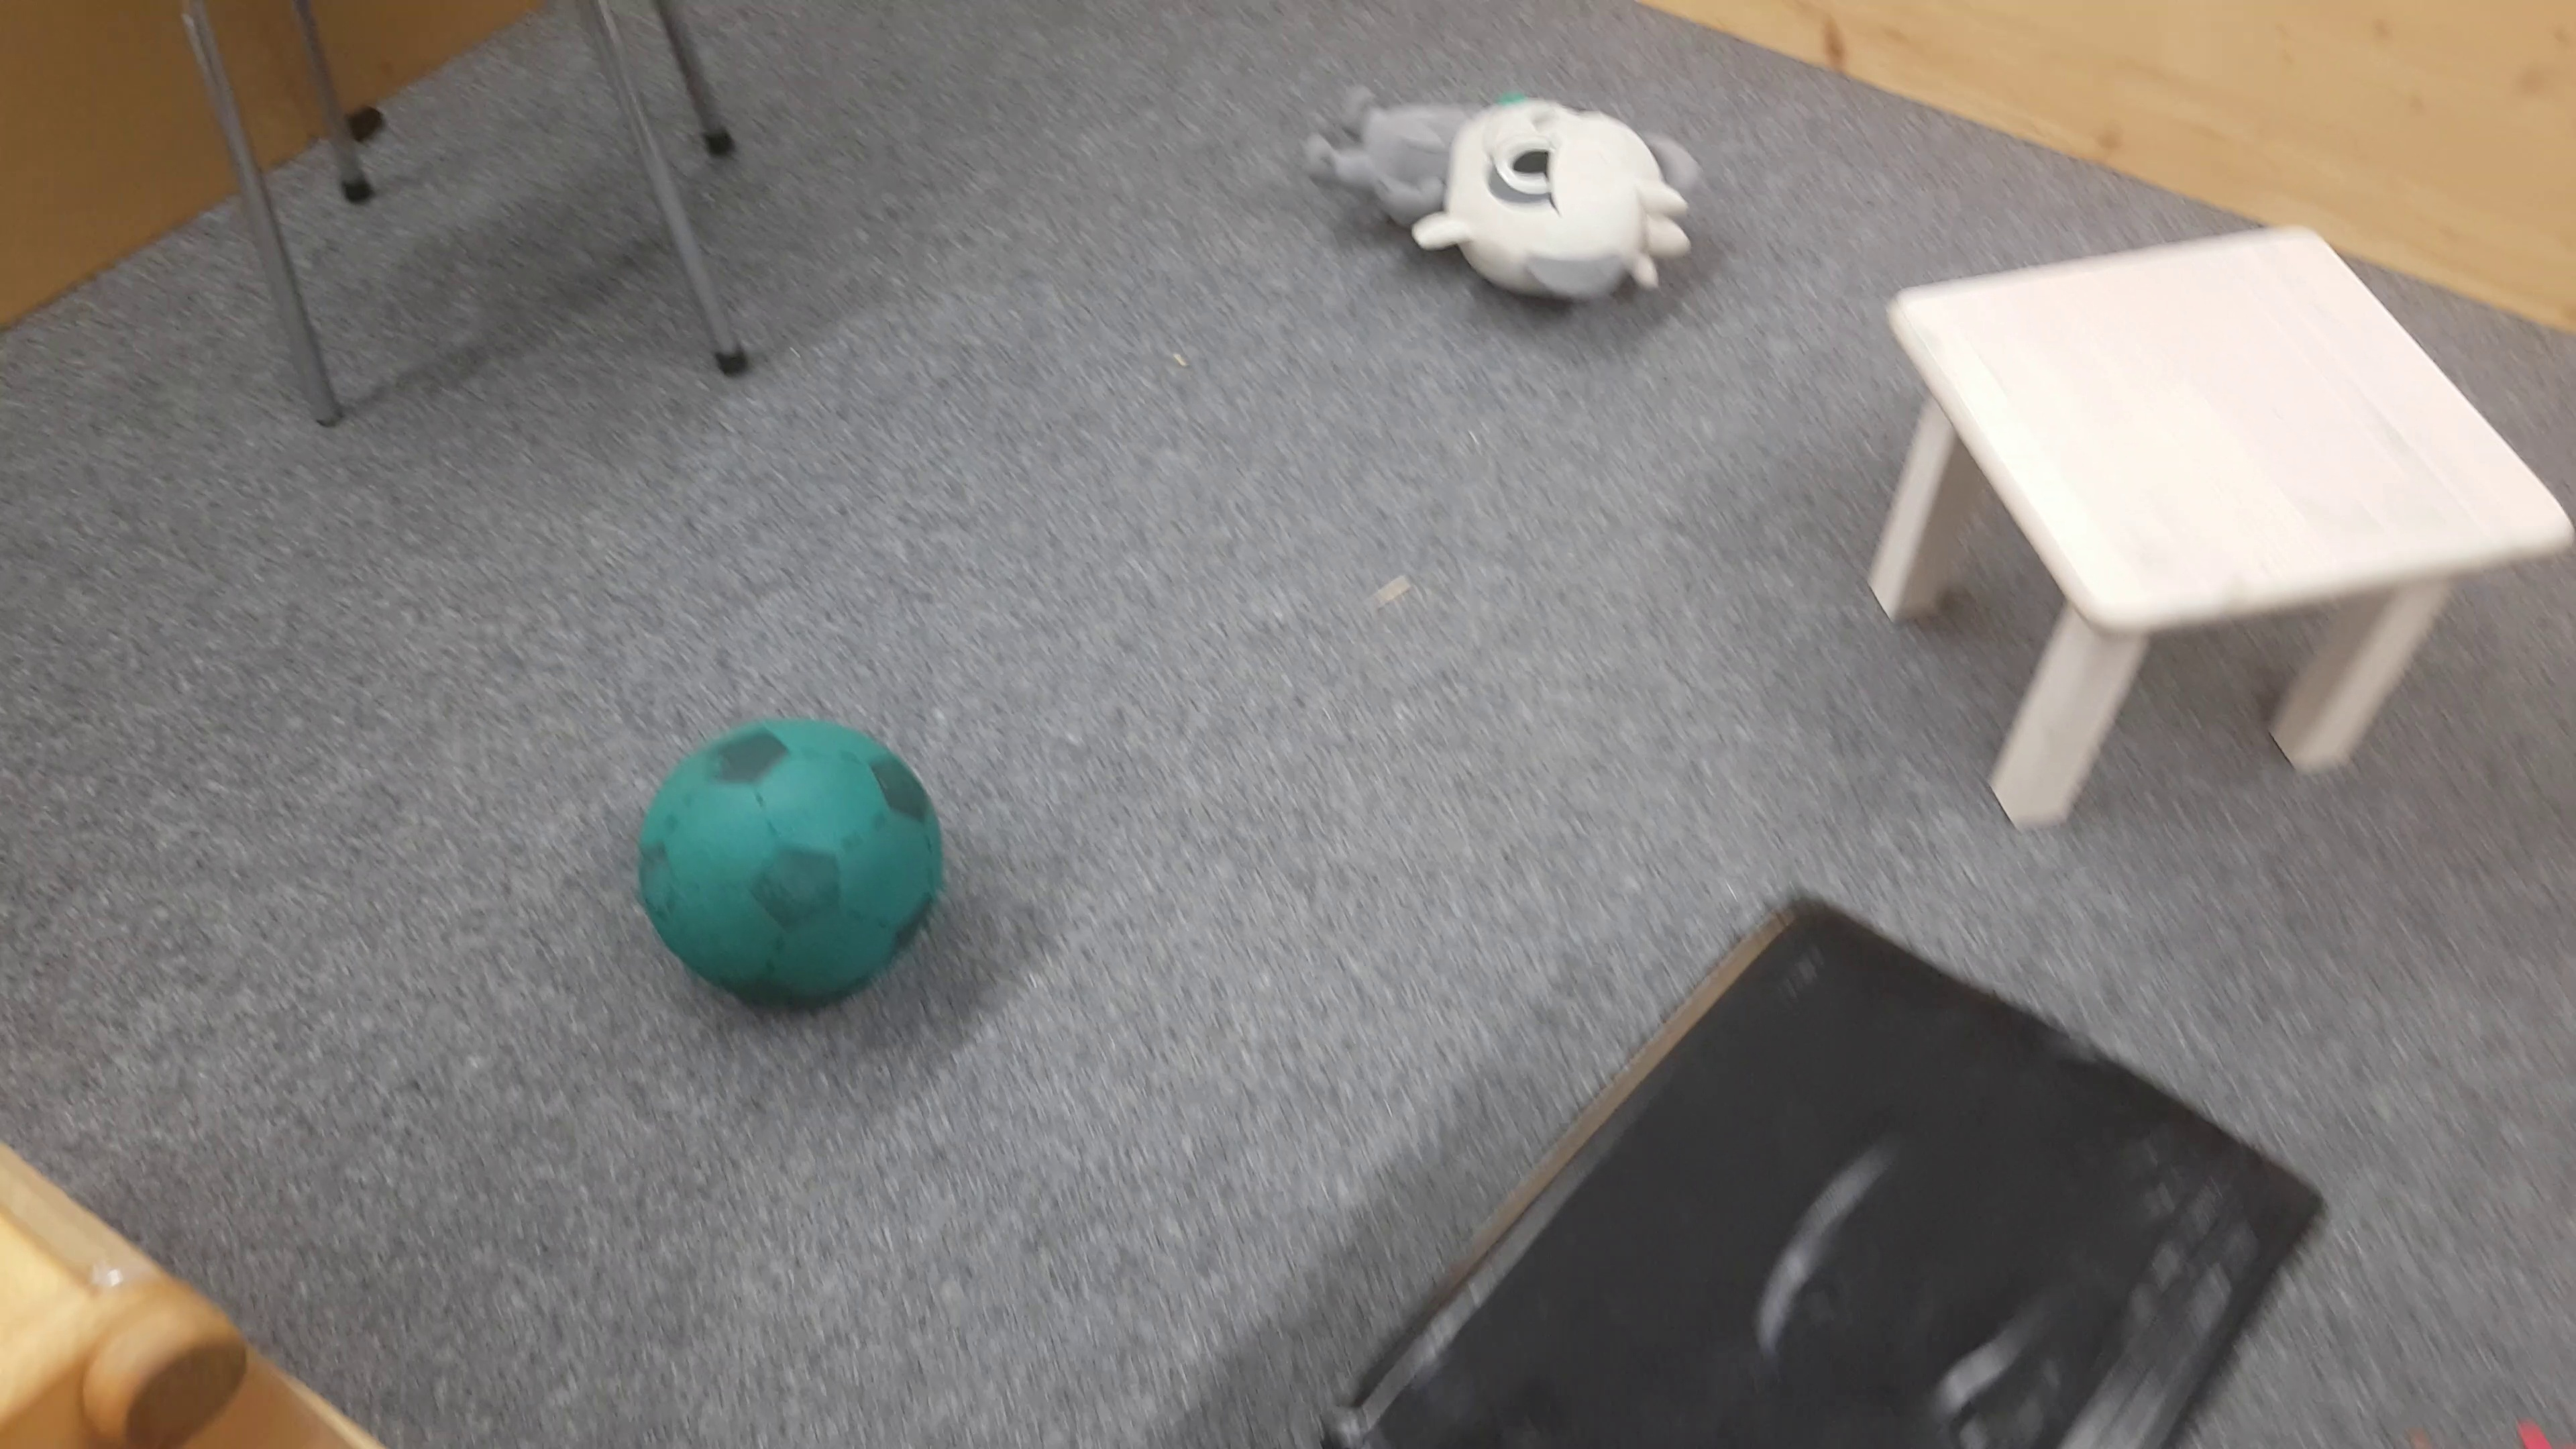grasp: (1307, 74, 1697, 297)
kick: (630, 715, 945, 1012)
push: (1306, 893, 2323, 1449)
